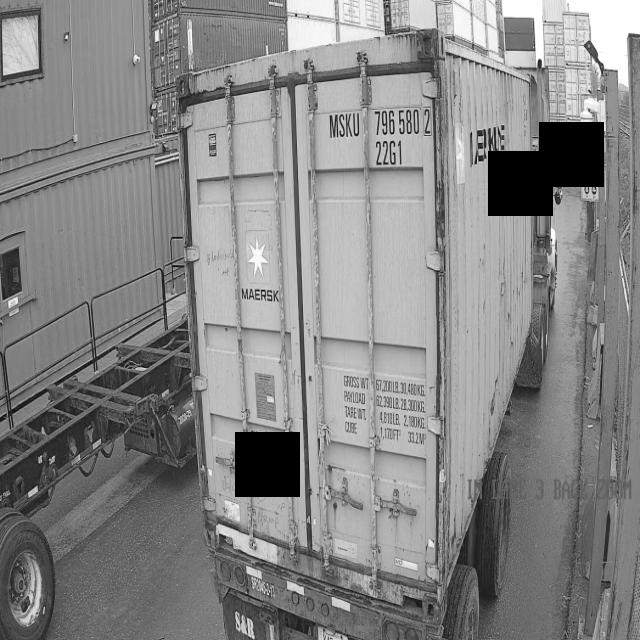container_company_logo: (242, 228, 281, 307)
container_number: (329, 99, 433, 166)
license_plate: (319, 625, 349, 640)
other_container_info: (331, 362, 422, 442)
truck_trailer: (0, 299, 211, 640)
truck_with_container: (196, 32, 563, 640)
